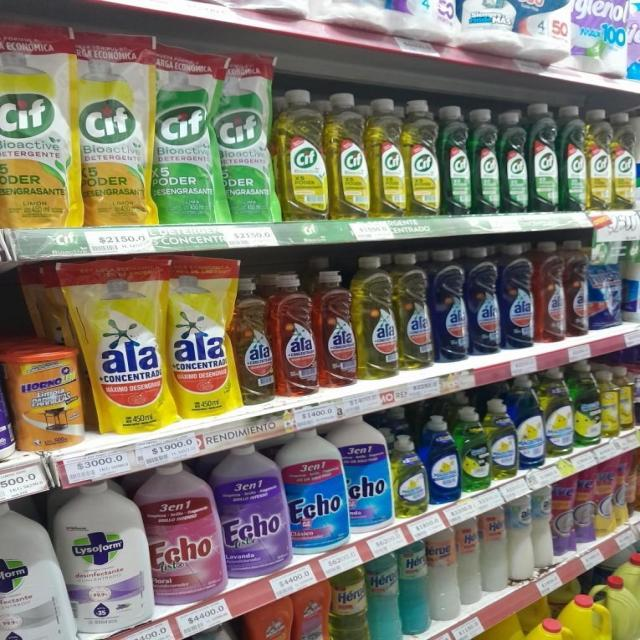ala_conc_amarillo: (358, 255, 398, 380), (235, 276, 273, 405), (398, 252, 431, 372)
ala_conc_azul: (432, 248, 467, 364), (501, 242, 534, 350), (468, 245, 500, 356)
ala_conc_rojo: (274, 272, 317, 397), (317, 268, 357, 389), (536, 240, 565, 344), (566, 240, 588, 339)
ala_crem_blanco: (508, 492, 533, 583), (534, 484, 552, 572)
ala_sachet_amarillo: (72, 255, 166, 435), (168, 255, 234, 419)
cif_conc_bot_amarilla: (278, 87, 328, 220), (328, 91, 368, 220), (370, 97, 406, 219), (405, 99, 440, 218), (587, 108, 612, 211), (612, 110, 634, 210)
cif_conc_botella_verde: (440, 104, 470, 217), (529, 103, 559, 214), (500, 108, 528, 214), (560, 104, 587, 212), (472, 107, 499, 215)
cif_conc_sachet_amarillo: (0, 15, 76, 230), (77, 28, 151, 227)
cif_conc_sachet_verde: (152, 46, 218, 224), (218, 53, 275, 224)
heroe: (330, 565, 368, 640), (368, 551, 400, 640), (400, 539, 429, 637), (430, 527, 458, 626), (482, 503, 507, 594), (458, 517, 482, 610)
magistral_con_amarillo: (392, 434, 426, 518), (544, 368, 573, 458), (488, 398, 516, 482)
magistral_con_azul: (426, 414, 458, 506), (516, 375, 544, 470)
